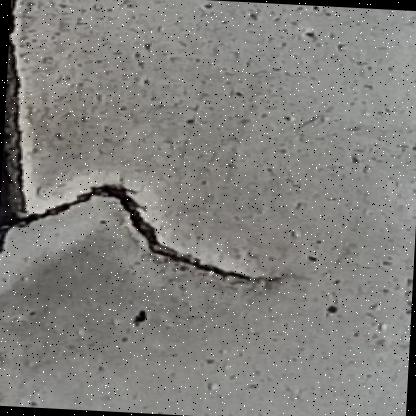Crack: (0, 0, 369, 389)
